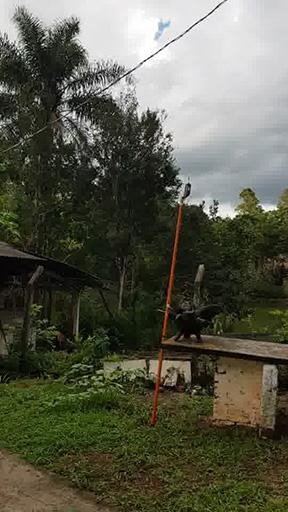Detector_Tensao_Contato: (183, 175, 191, 197)
Vara_Manobra: (149, 198, 184, 425)
